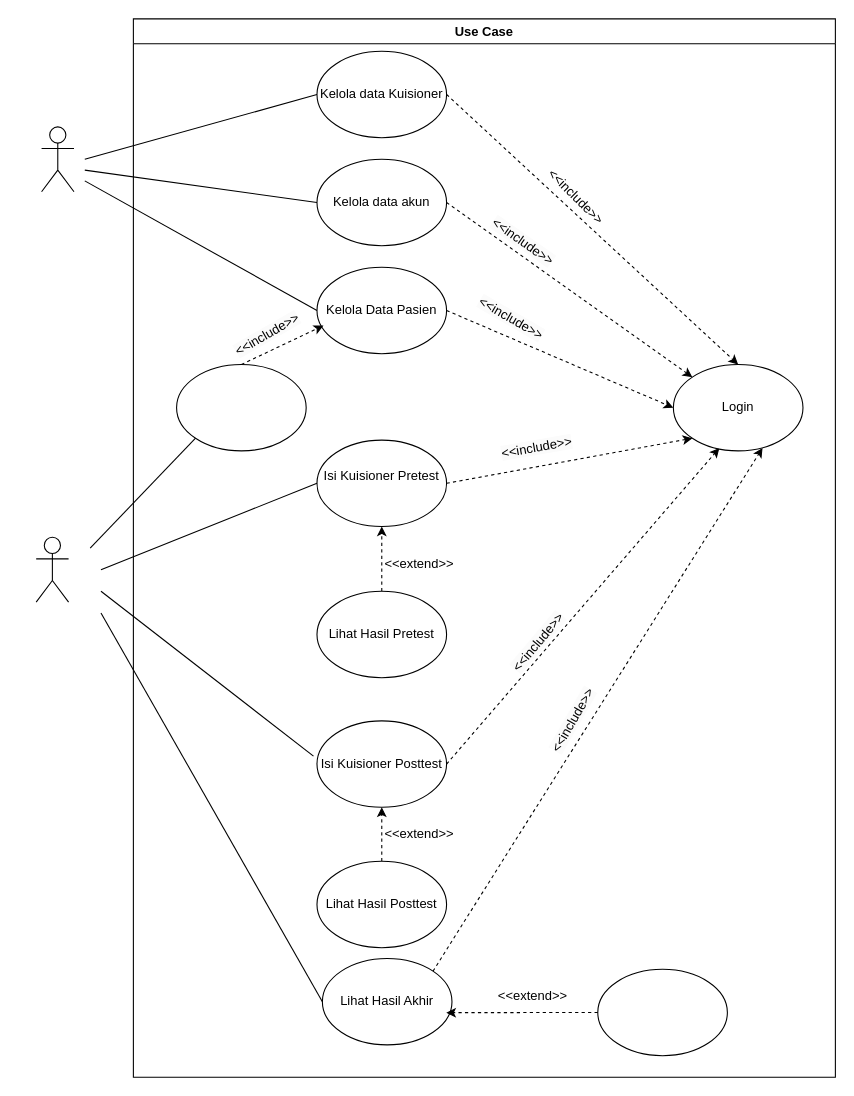
The diagram is 854 pixels wide and 1096 high, and some of its shapes have lost their labels. Here are the shapes that lost their labels. From the top down, the box of each, then its label:
(40, 126, 74, 192): Operator
(176, 363, 306, 451): lihat data pasien
(35, 536, 69, 602): Tim Peneliti
(597, 968, 727, 1056): Export data Hasil Akhir
